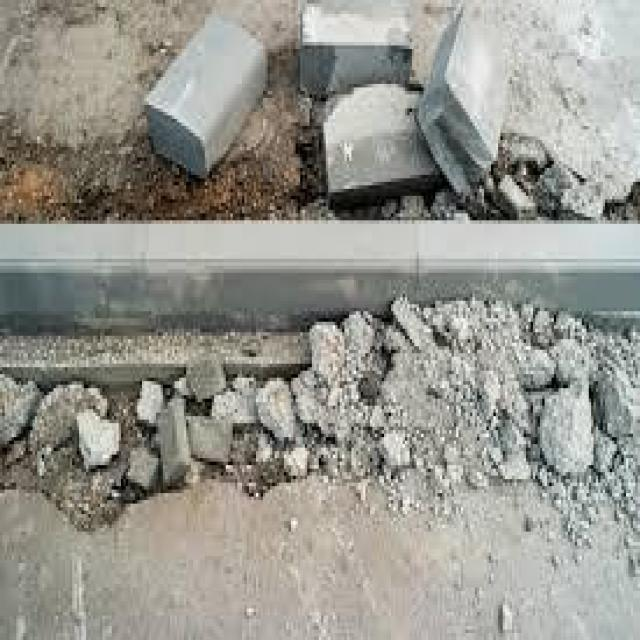curb: (8, 230, 640, 319)
